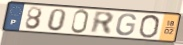0: (70, 8, 90, 35), (47, 8, 68, 32)
8: (24, 6, 44, 31)
G: (115, 13, 138, 37)
O: (137, 14, 162, 39)
R: (90, 10, 116, 36)
